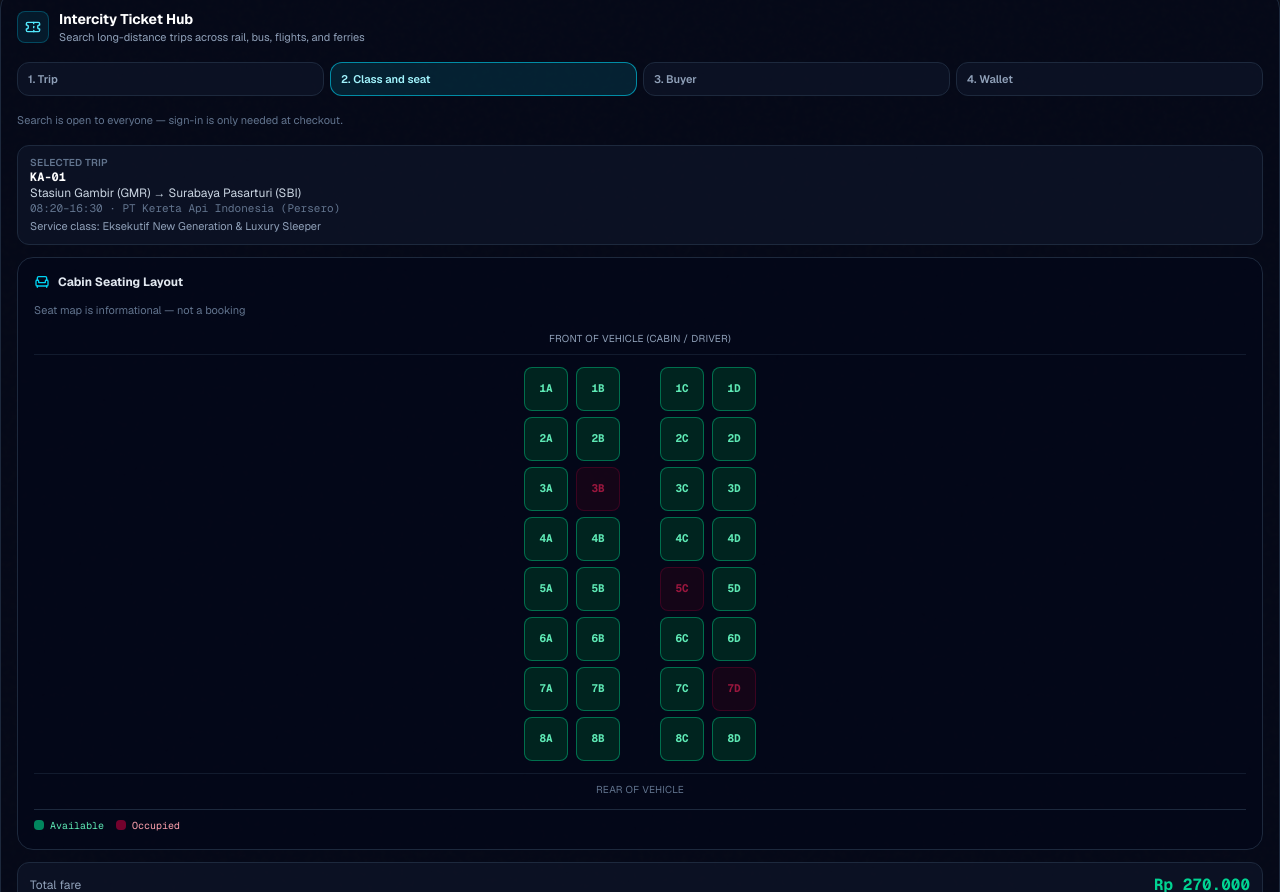
it: IntercityTicketHub search-first flow › keeps rail drop-off hidden and shows no AKAP address field at the buyer step
Click the button labelled "1B".
click(598, 389)  # box [576,367,620,411]
(page scrolled)
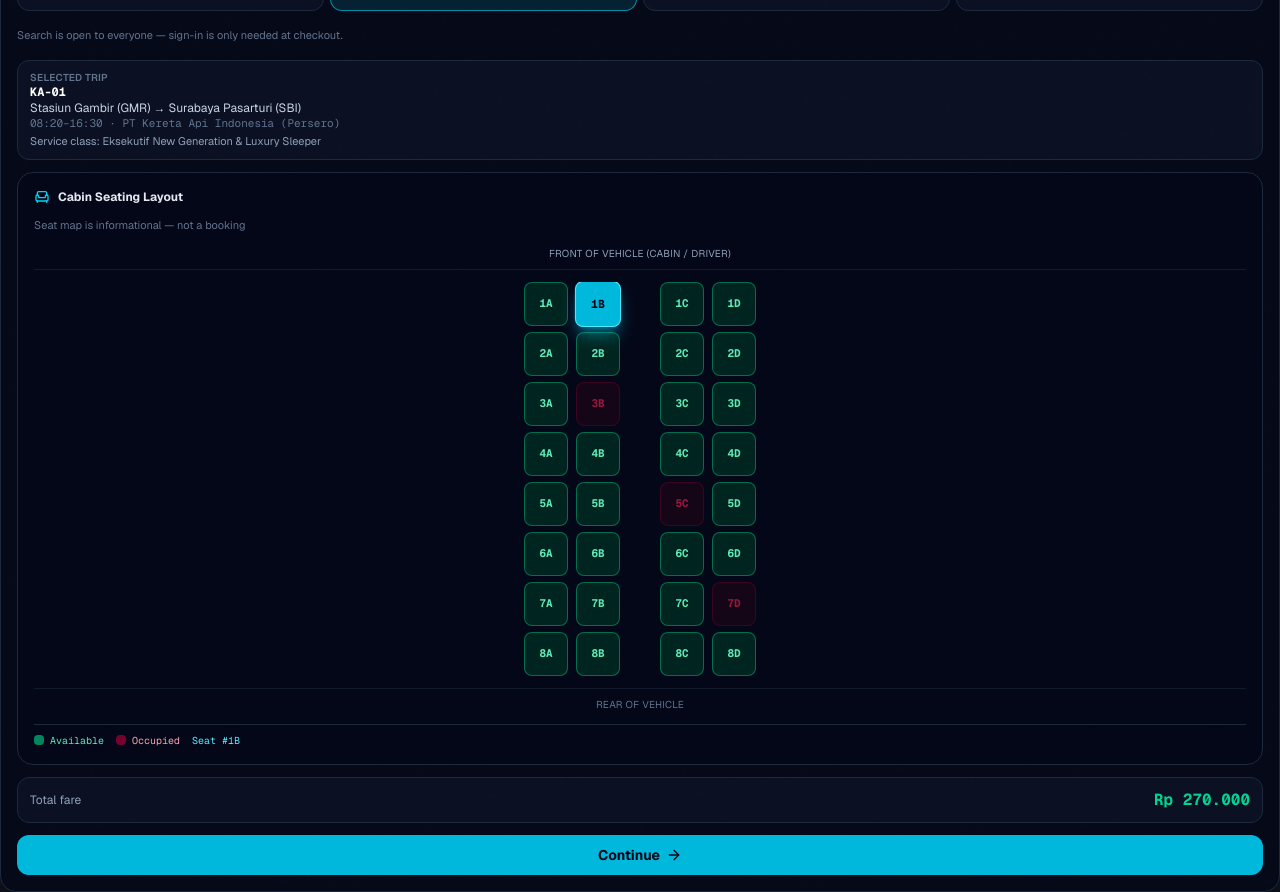
Click the button "Continue".
click(640, 855)  # box [17,835,1263,875]
(page scrolled)
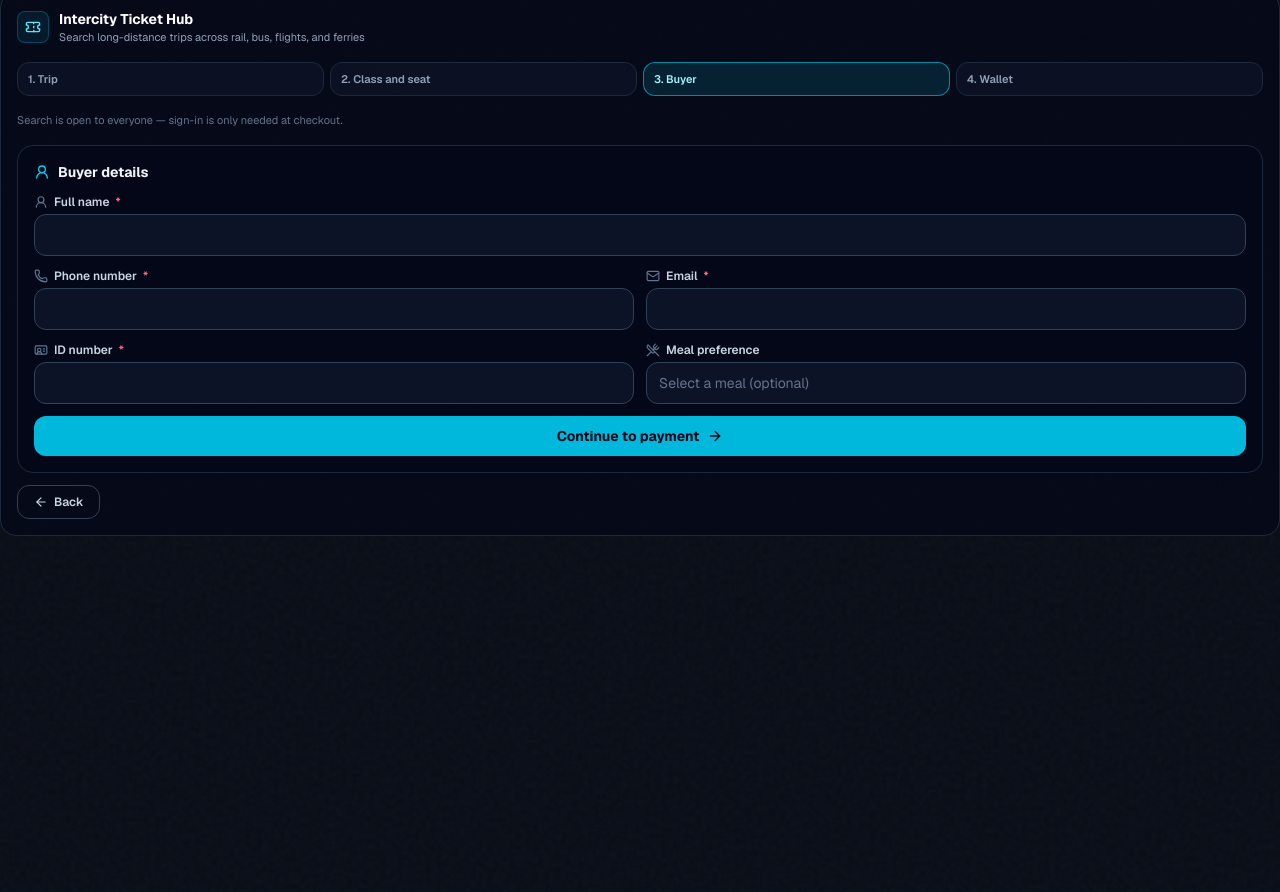
Now the field labelled "Full name *" is shown, box [34,214,1246,256]
